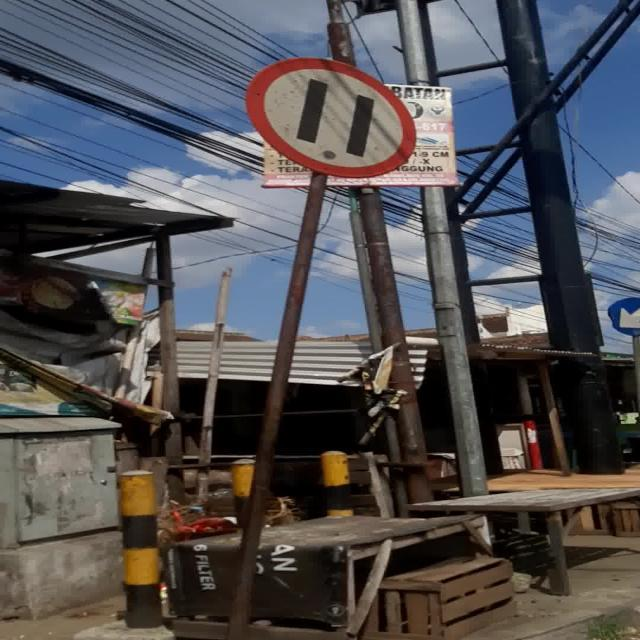Larangan Muatan - 10 ton: (246, 58, 416, 178)
